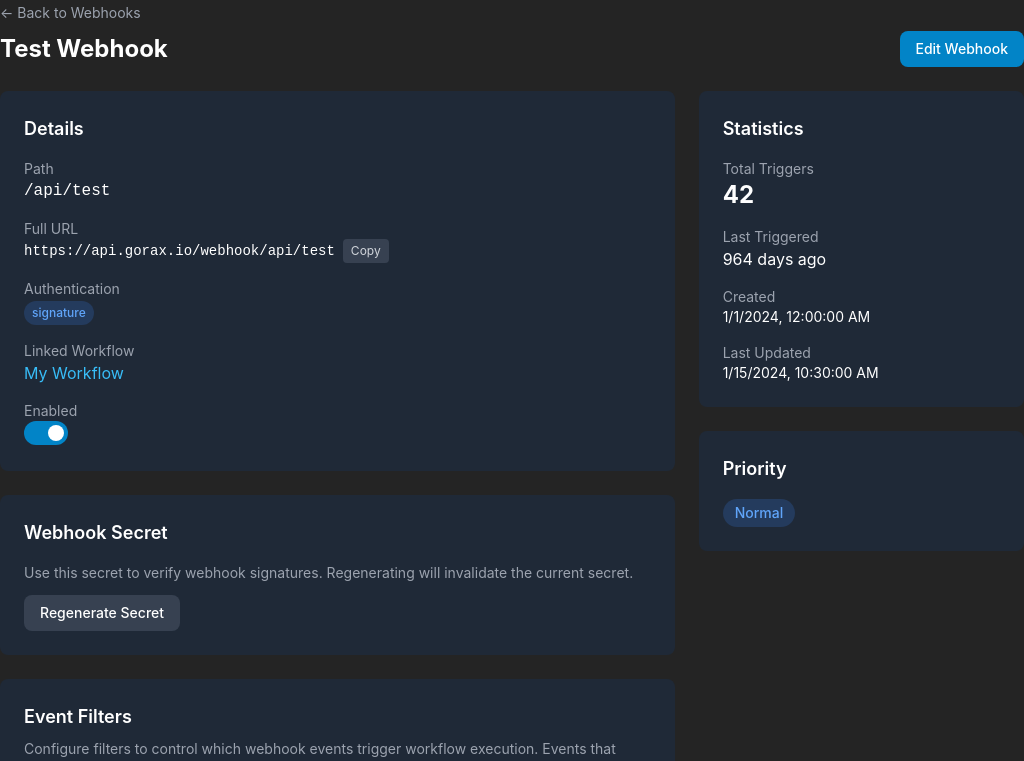
Test: WebhookDetail › Secret Regeneration › should cancel regenerate confirmation
Click the button "Regenerate Secret": (102, 613) [24, 595, 180, 631]
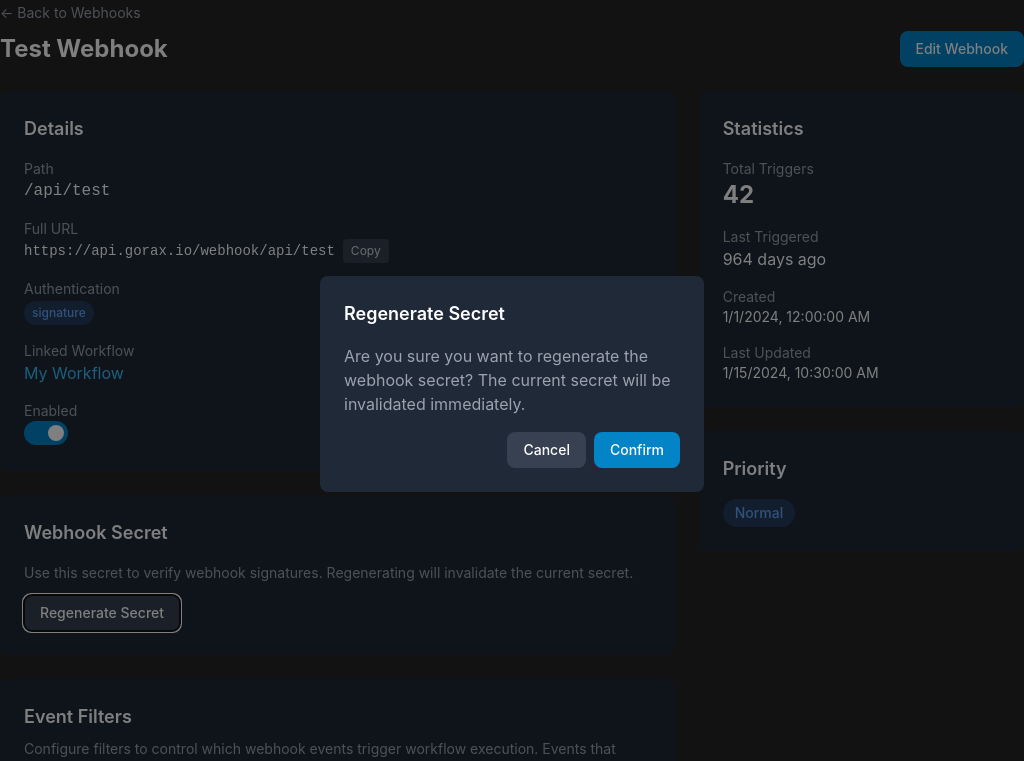
Check: the text "Are you sure" is shown, box [344, 346, 671, 414]
Click the button "Cancel": (547, 450) [508, 432, 586, 468]
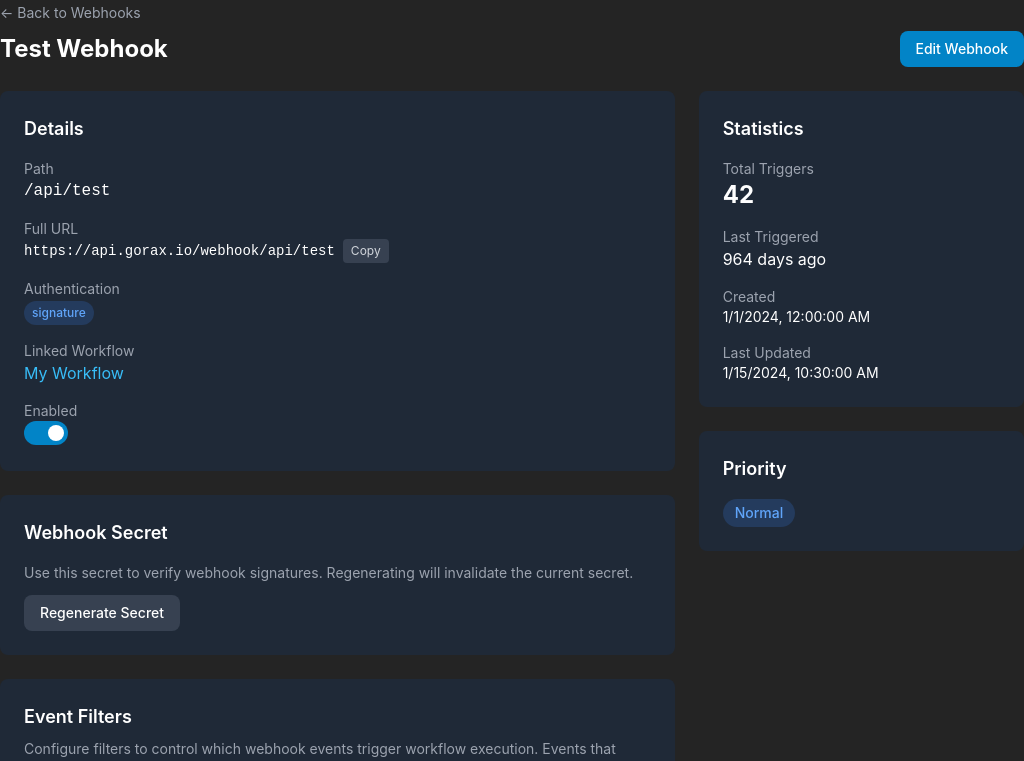
Check: the text "Are you sure" is gone
